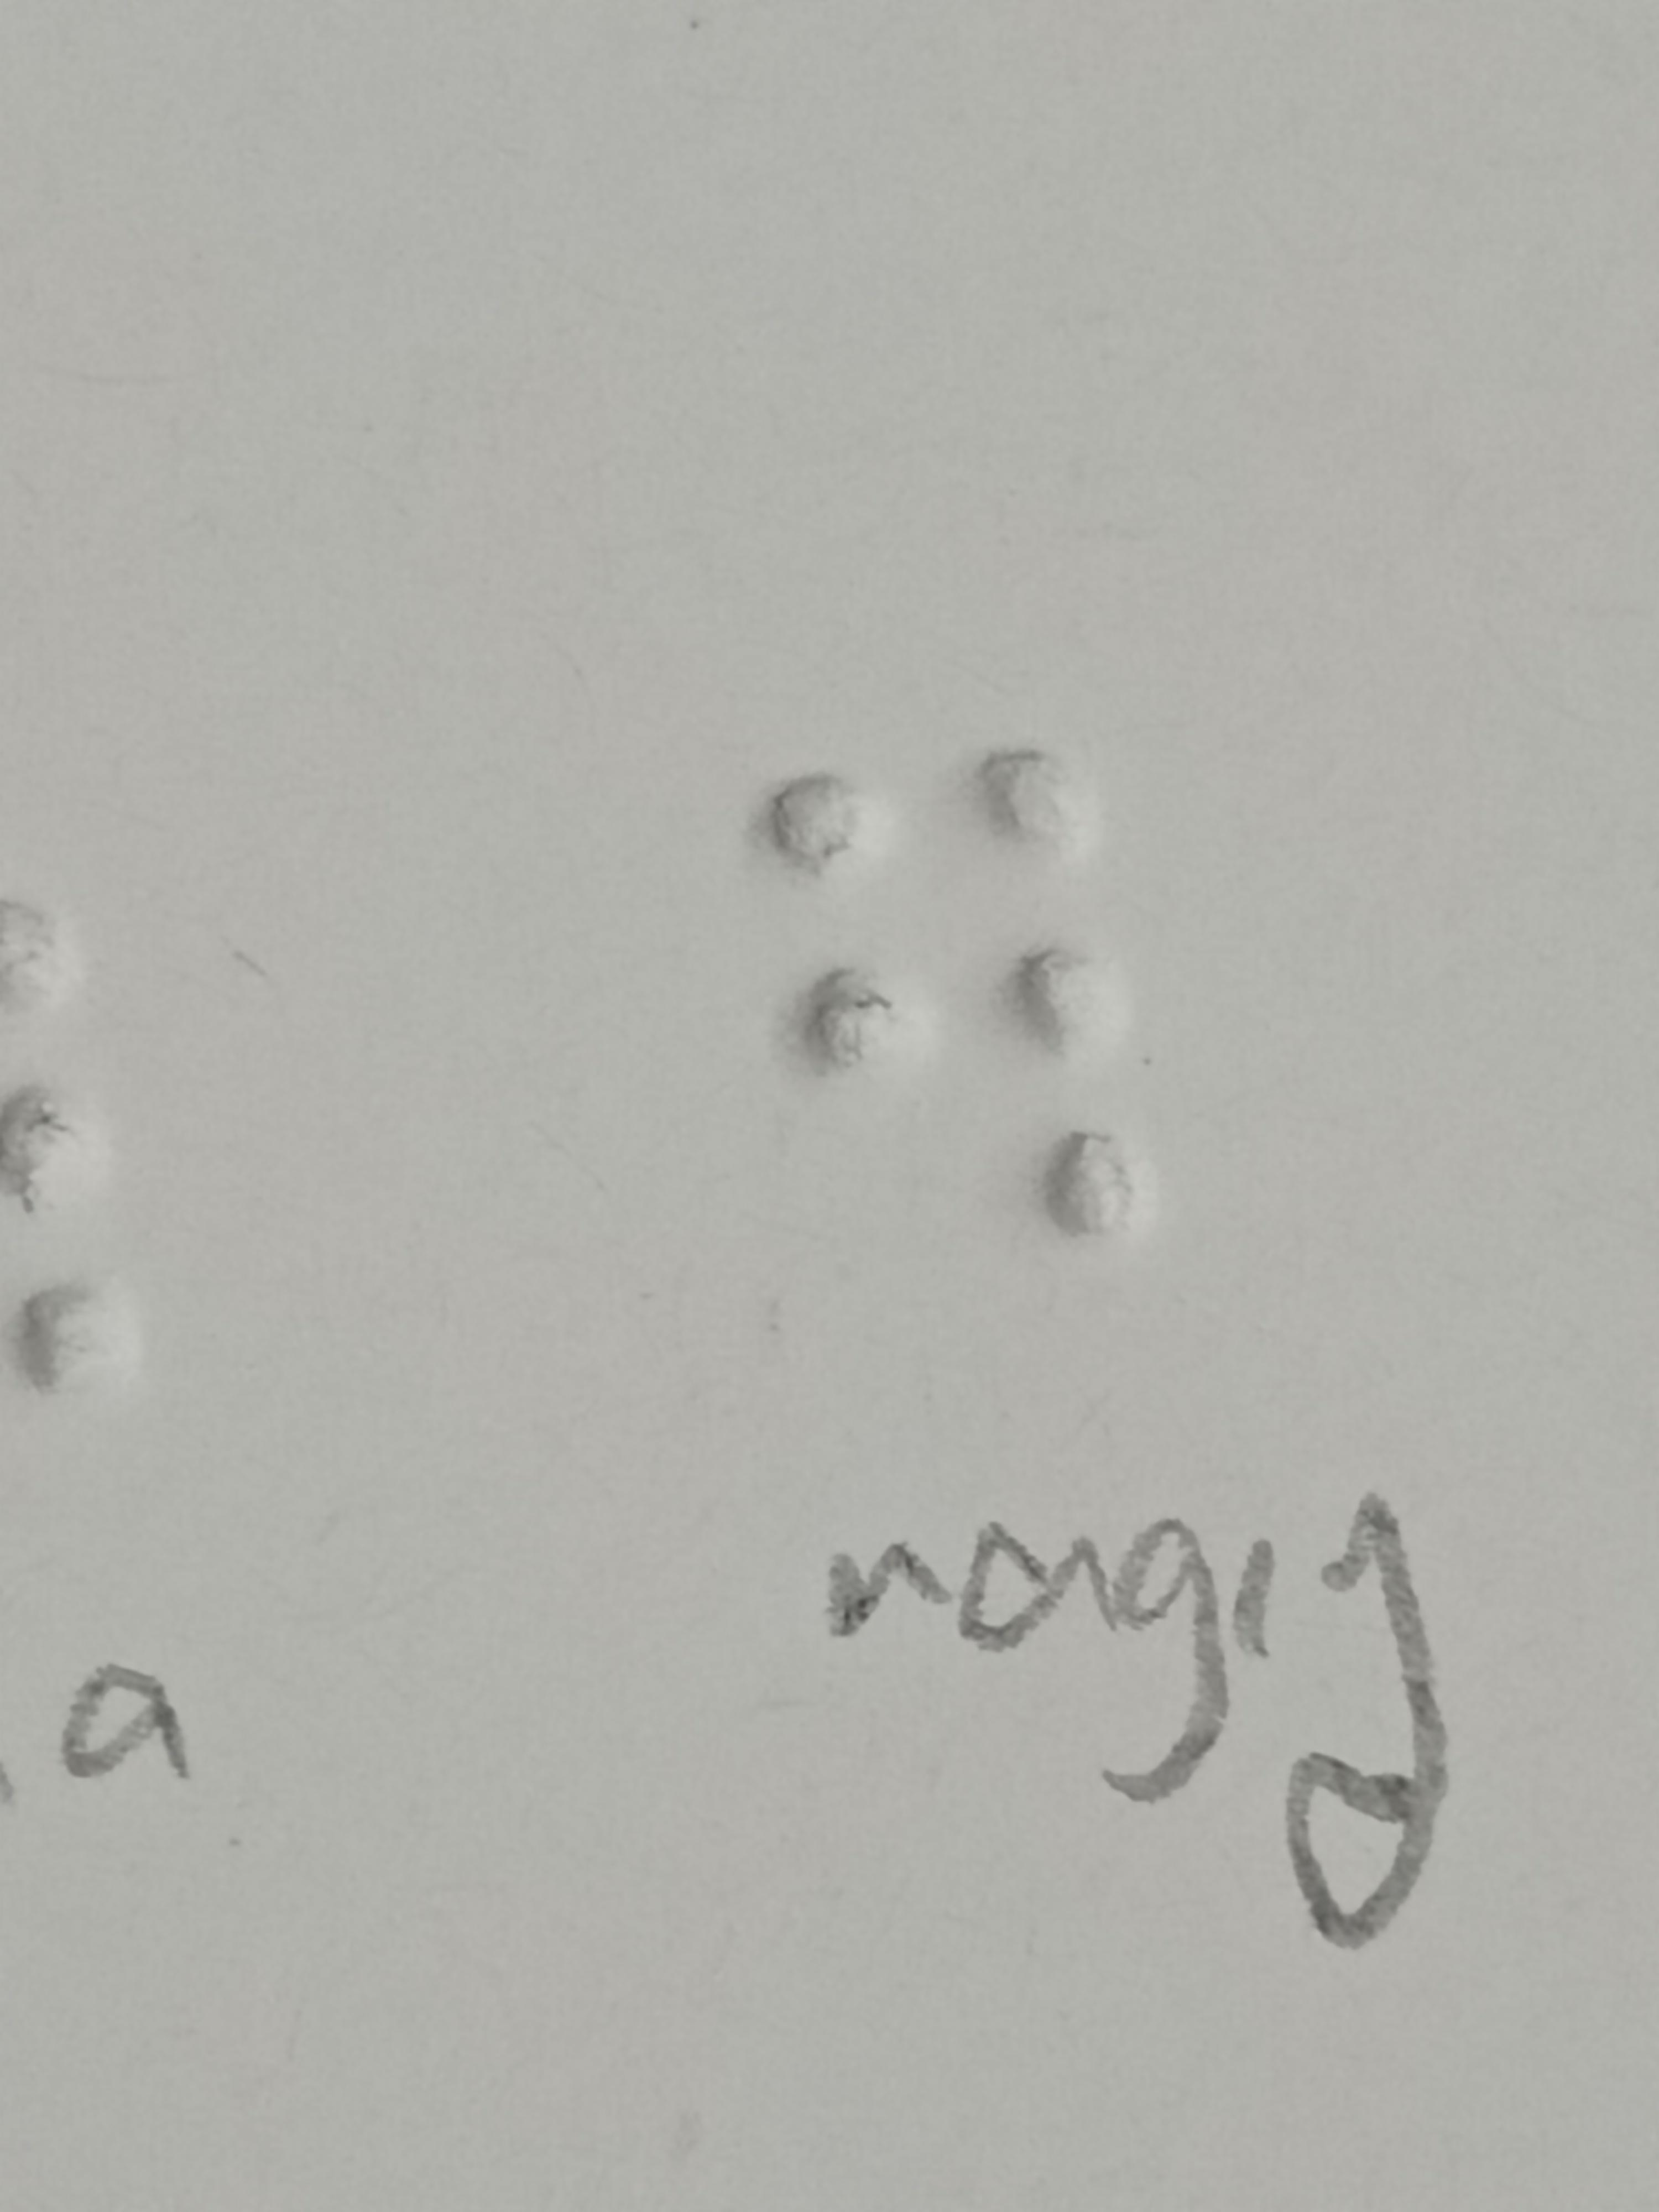one_cell_non_alphabet_naging: (775, 747, 1133, 1282)
